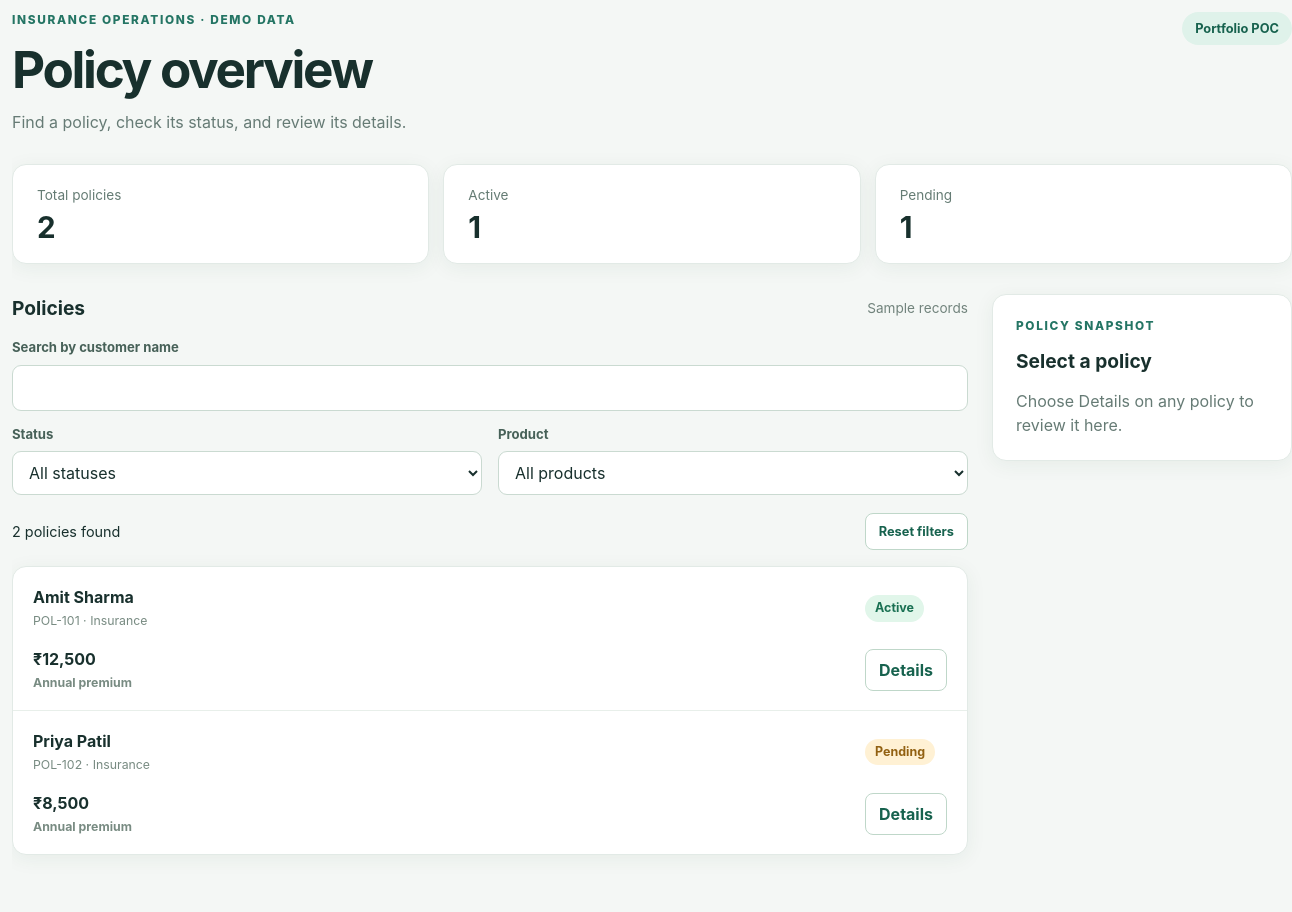
Test: opens policy details, updates the panel on another selection, and closes them
Click the button with aria-label "View details for Amit Sharma".
click(906, 670)  # box [865, 649, 947, 691]
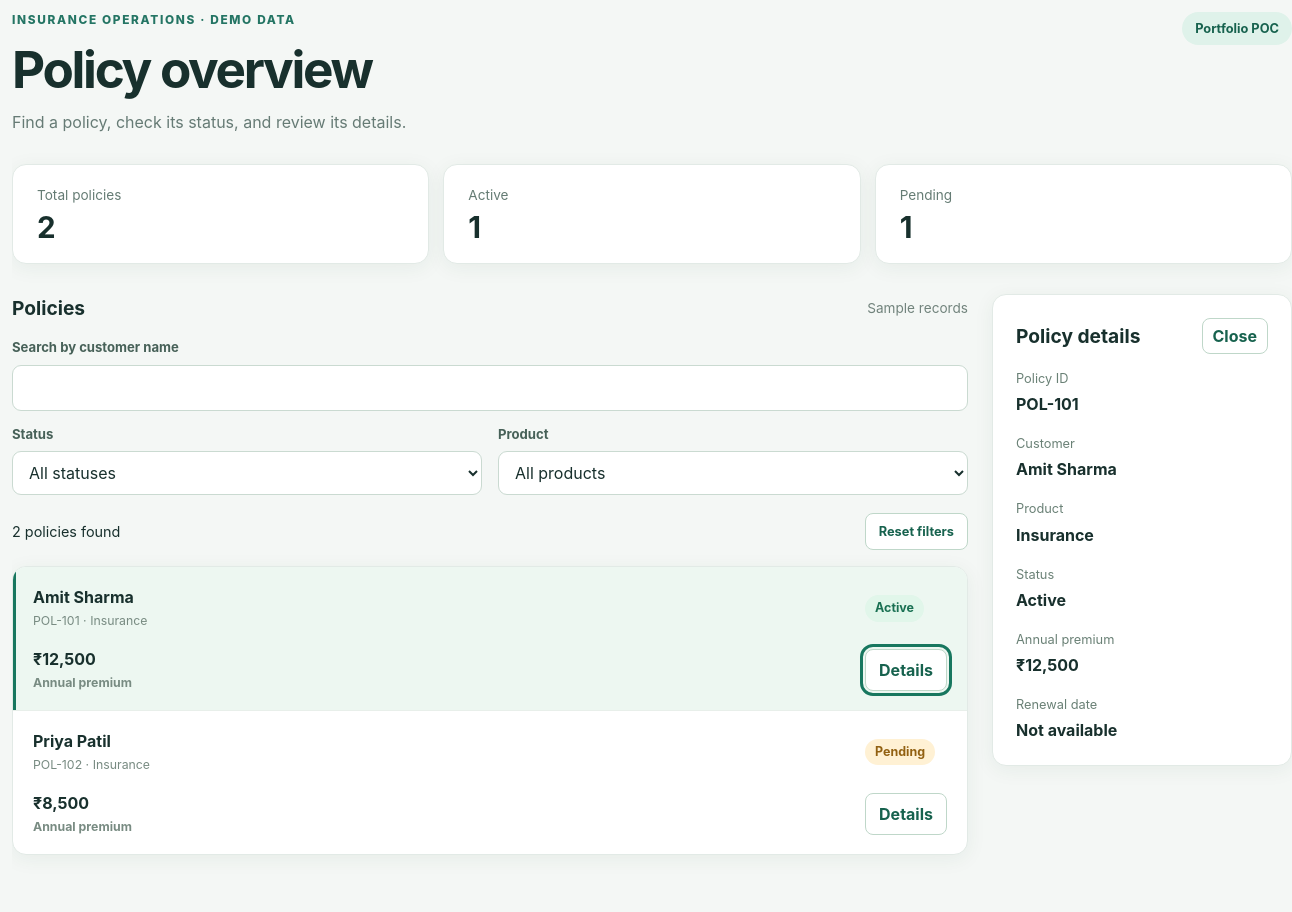
Result: the heading "Policy details" is shown at [1016, 322, 1140, 350]
Result: the text "POL-101" is shown at [1016, 394, 1079, 414]
Click the button with aria-label "View details for Priya Patil".
click(906, 814)  # box [865, 793, 947, 835]
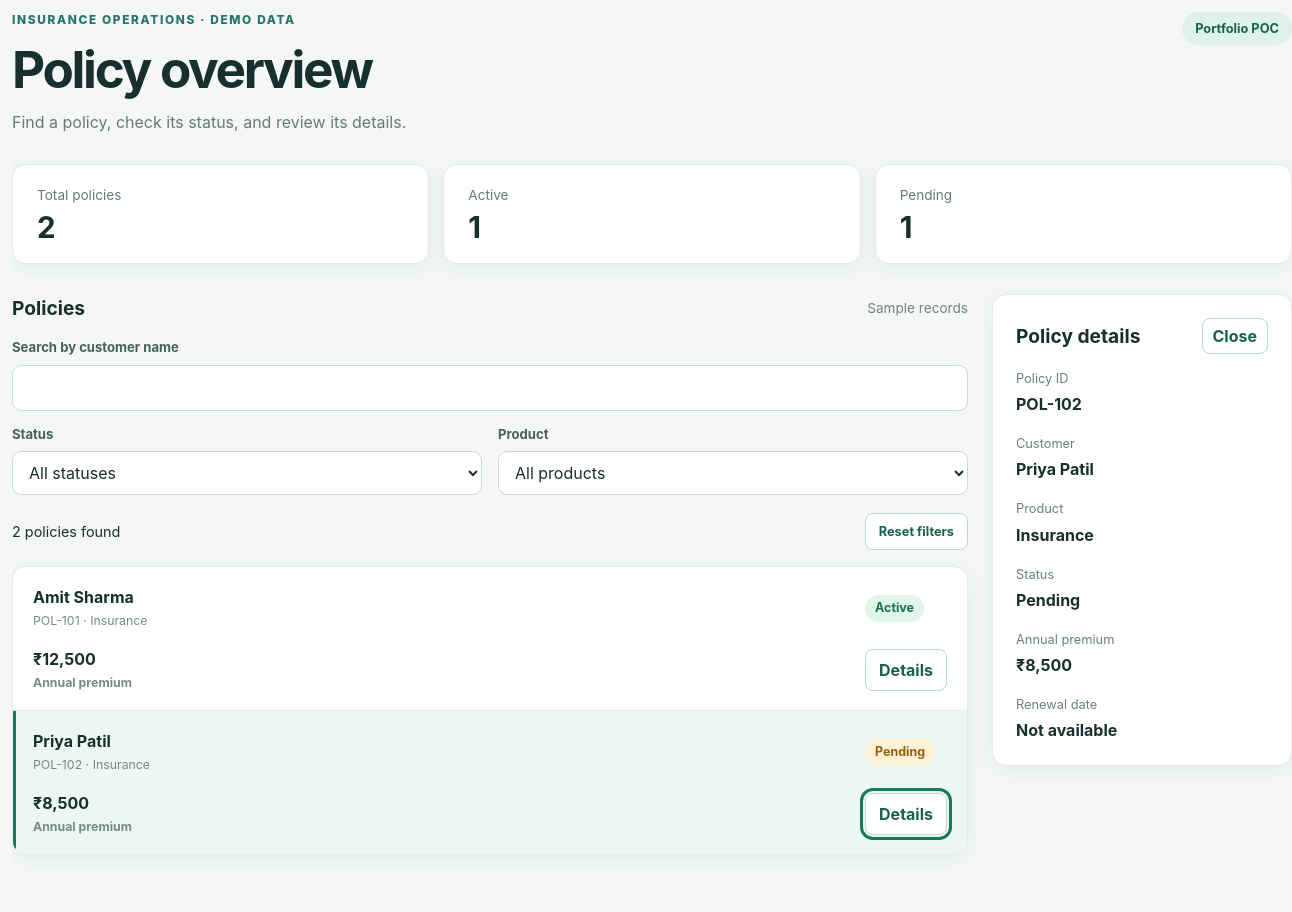
Result: the text "Priya Patil" below "Policy ID" is shown at [1016, 459, 1094, 479]
Click the button "Close".
click(1235, 336)  # box [1202, 318, 1268, 354]
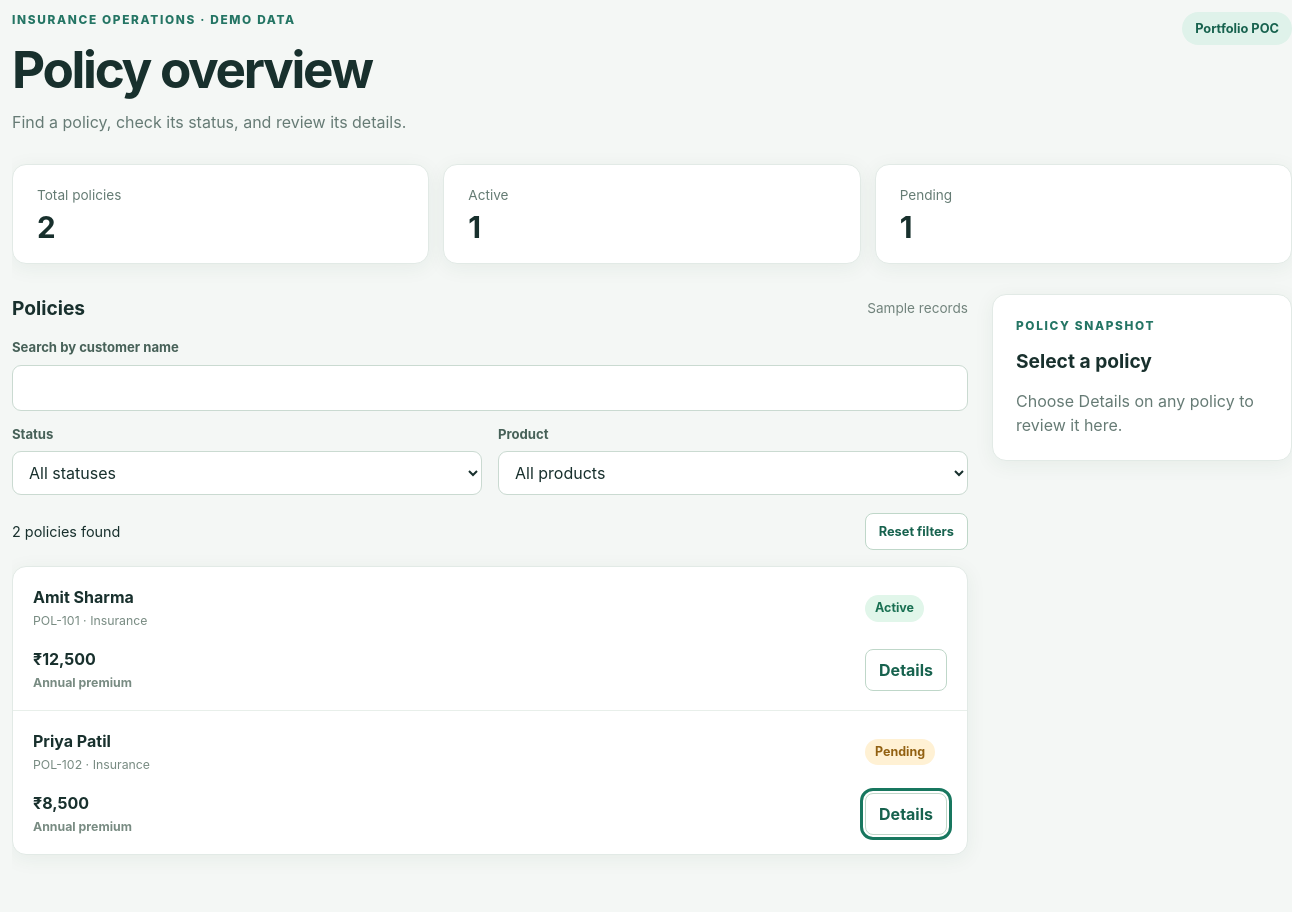
Result: the heading "Policy details" is gone
